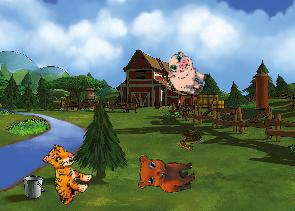bear: (134, 148, 197, 196)
pig: (158, 48, 213, 101)
tiger: (29, 140, 99, 209)
